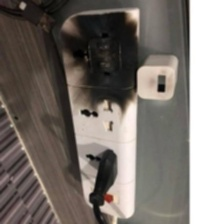three_eye_plug: (56, 3, 144, 221)
